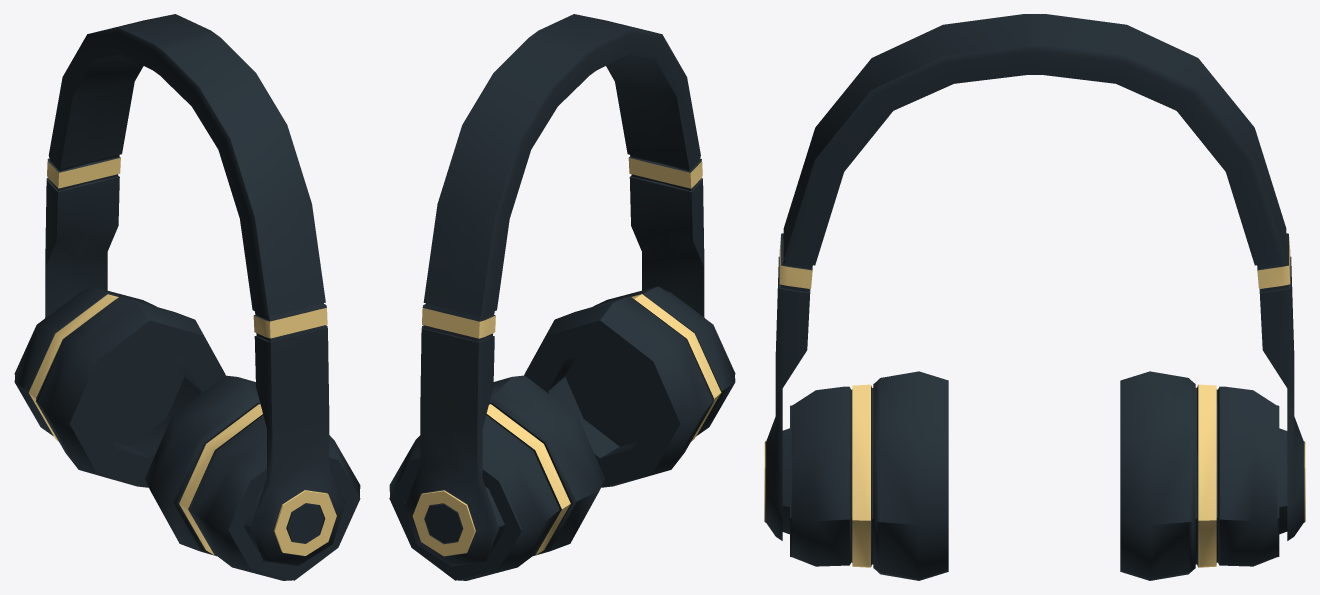
File: headPhones.glb
3 views of the same model, side by side, from view 1: azimuth 30°, elevation 25°; view 2: azimuth 150°, elevation 25°; view 3: azimuth 270°, elevation 25° (orthographic). The views are drawn at different scales.
Visible parts, largest first — view 1: arcoHeadPhone, lPillow, rPillow; view 2: arcoHeadPhone, rPillow, lPillow; view 3: arcoHeadPhone, lPillow, rPillow.
Boxes of the visible parts, <box> form: arcoHeadPhone: <box>45,14,344,565</box>; lPillow: <box>14,286,225,487</box>; rPillow: <box>145,375,360,580</box>; arcoHeadPhone: <box>404,14,704,566</box>; rPillow: <box>524,286,735,487</box>; lPillow: <box>389,375,604,580</box>; arcoHeadPhone: <box>764,14,1305,540</box>; lPillow: <box>1120,371,1287,580</box>; rPillow: <box>782,371,948,580</box>.
Size of the model in its own units: 0.1312 by 0.3436 by 0.306.
